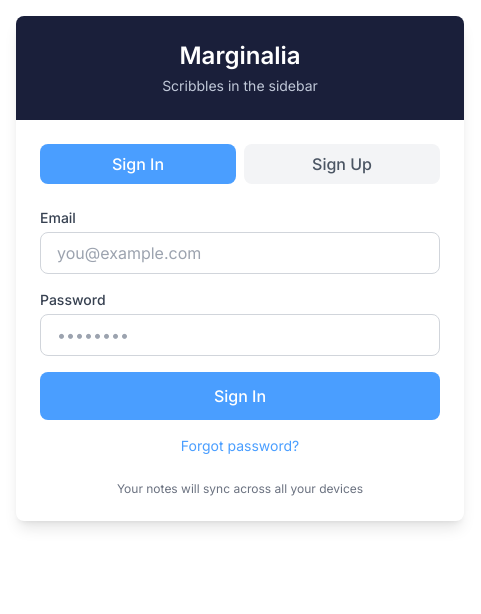
Options › Sign Up form › should show error when password is too short
(page scrolled)
// Switch to sign up mode
Click the tab with test id "signup-mode-button" at (342, 164), box [244,144,440,184]
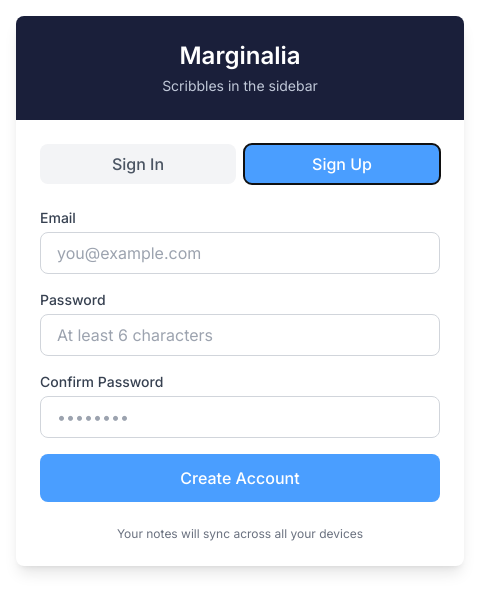
Type "newuser@example.com" into the field with test id "email-input" at (240, 253), box [40,232,440,274]
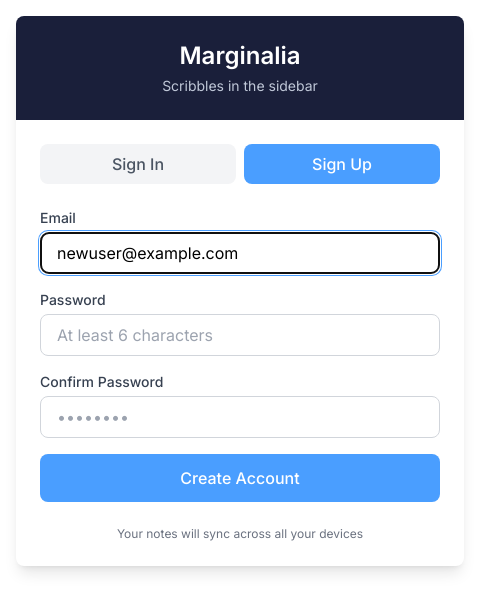
Type "12345" into the password field with test id "password-input" at (240, 335), box [40,314,440,356]
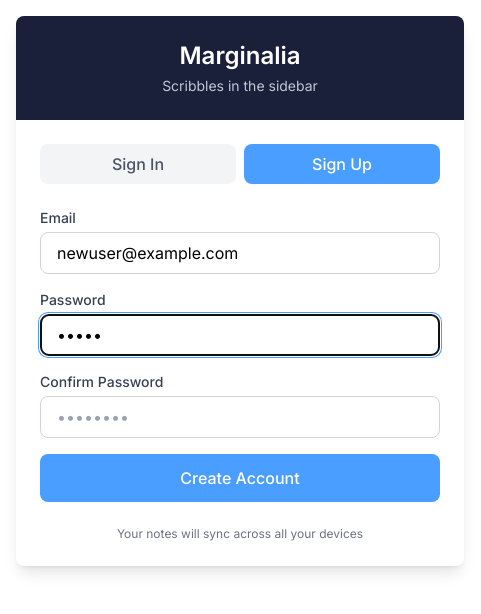
Type "12345" into the password field with test id "confirm-password-input" at (240, 417), box [40,396,440,438]
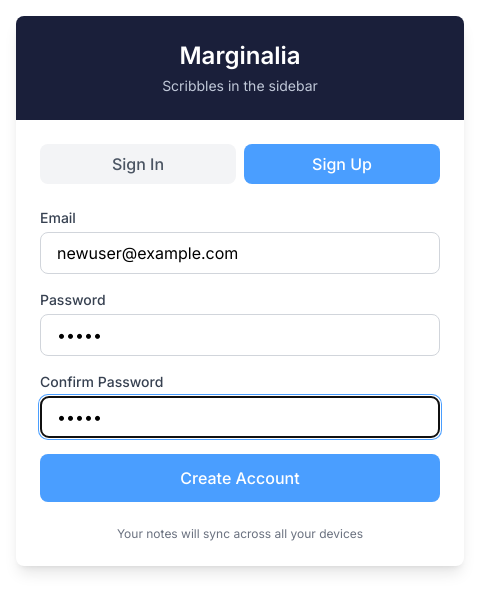
Click the button with test id "signup-submit-button" at (240, 478), box [40,454,440,502]
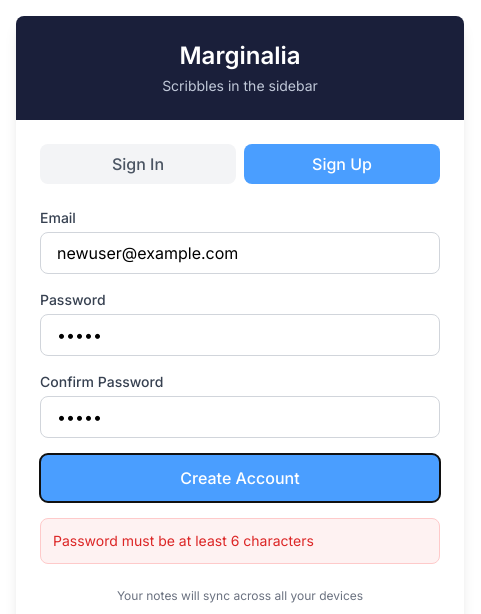
expect the message with test id "error-message" reads "Password must be at least 6 characters": met, box [53,532,314,549]
